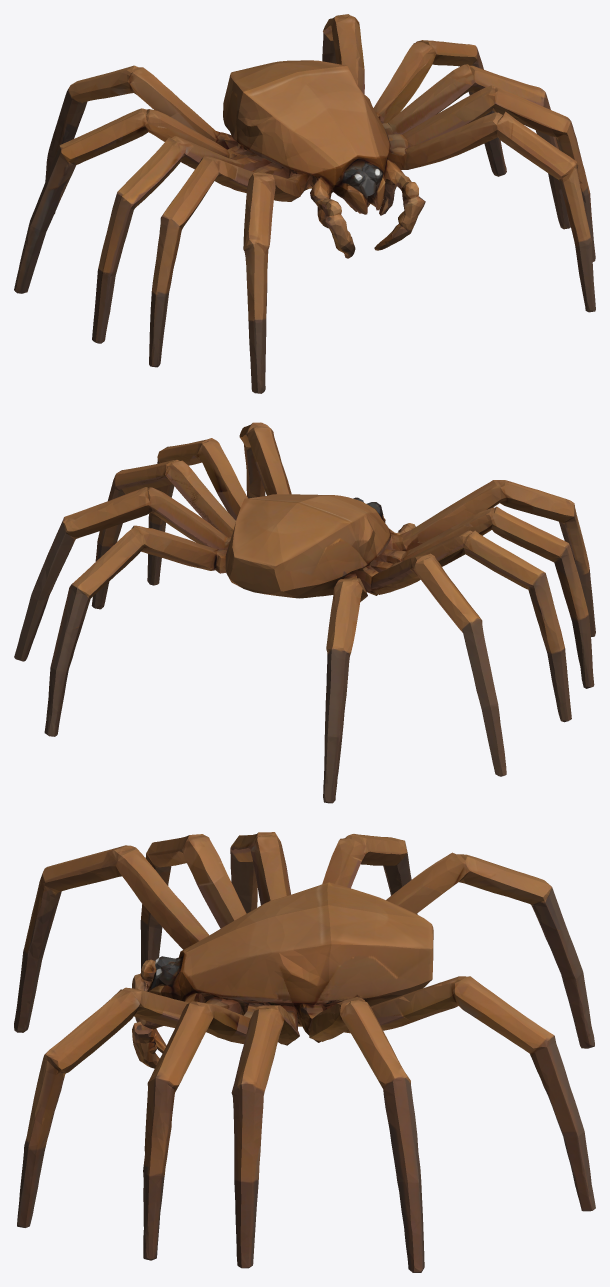
Rendered from Arachnitron_0429055004_texture.fbx.
The picture shows the model from 3 angles, top to bottom: view 1: azimuth 30°, elevation 25°; view 2: azimuth 150°, elevation 25°; view 3: azimuth 270°, elevation 25°; orthographic projection. The views are drawn at different scales.
Visible parts, largest first — view 1: temp; view 2: temp; view 3: temp.
Part boxes in pixels (x1,y1,x2,y2): temp: (14, 14, 595, 393); temp: (14, 422, 595, 803); temp: (14, 832, 595, 1272).
Bounding box in the file's own units: 199 × 72.88 × 170.
Materials: 1 (1 with a texture image).
